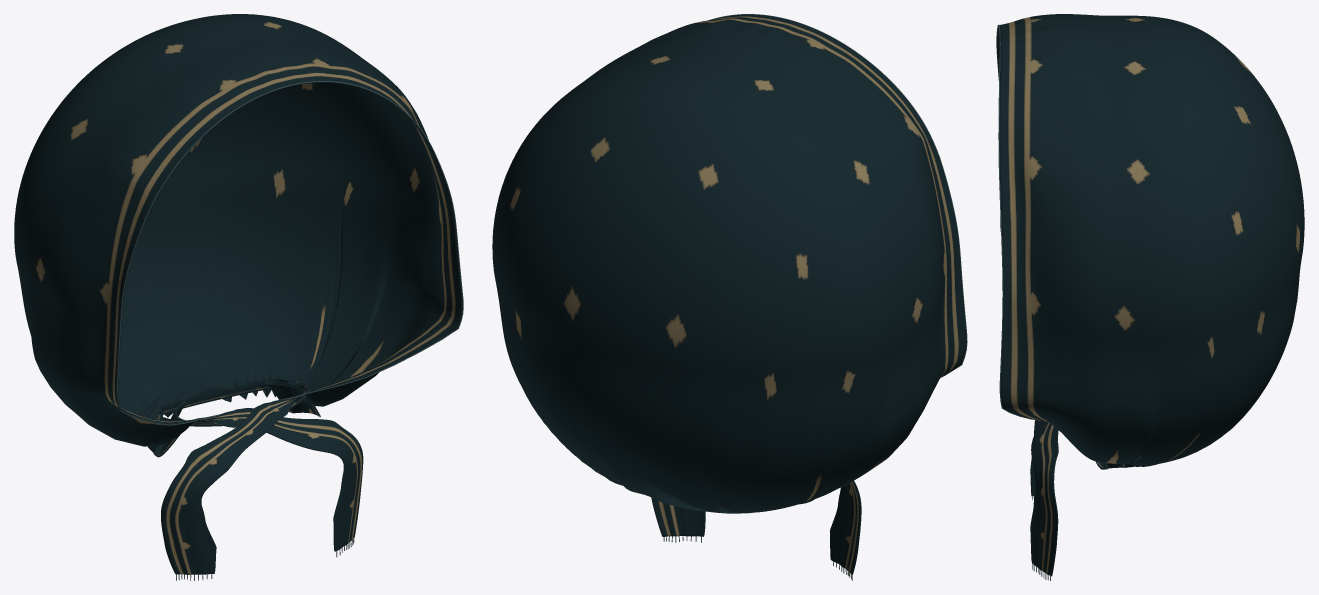
The model's file is Masculine-taper-sweatshirt-pashmina250-headgear.glb.
The picture shows the model from 3 angles, left to right: view 1: azimuth 30°, elevation 25°; view 2: azimuth 150°, elevation 25°; view 3: azimuth 270°, elevation 25°; orthographic projection. The views are drawn at different scales.
Parts seen in each view (by area): view 1: 226 headgear / Headwear / continuous woven pashmina239, 226 headgear / Headwear / face edge239; view 2: 226 headgear / Headwear / continuous woven pashmina239, 226 headgear / Headwear / face edge239; view 3: 226 headgear / Headwear / continuous woven pashmina239, 226 headgear / Headwear / face edge239.
Part boxes in pixels (x1,y1,x2,y2): 226 headgear / Headwear / continuous woven pashmina239: (14,14,462,574); 226 headgear / Headwear / face edge239: (117,81,463,425); 226 headgear / Headwear / continuous woven pashmina239: (492,14,966,574); 226 headgear / Headwear / face edge239: (709,14,967,377); 226 headgear / Headwear / continuous woven pashmina239: (997,14,1304,576); 226 headgear / Headwear / face edge239: (996,24,1034,419).
Size of the model in its own units: 1.07 by 1.38 by 0.7639.
Materials: 3 (1 with a texture image).
